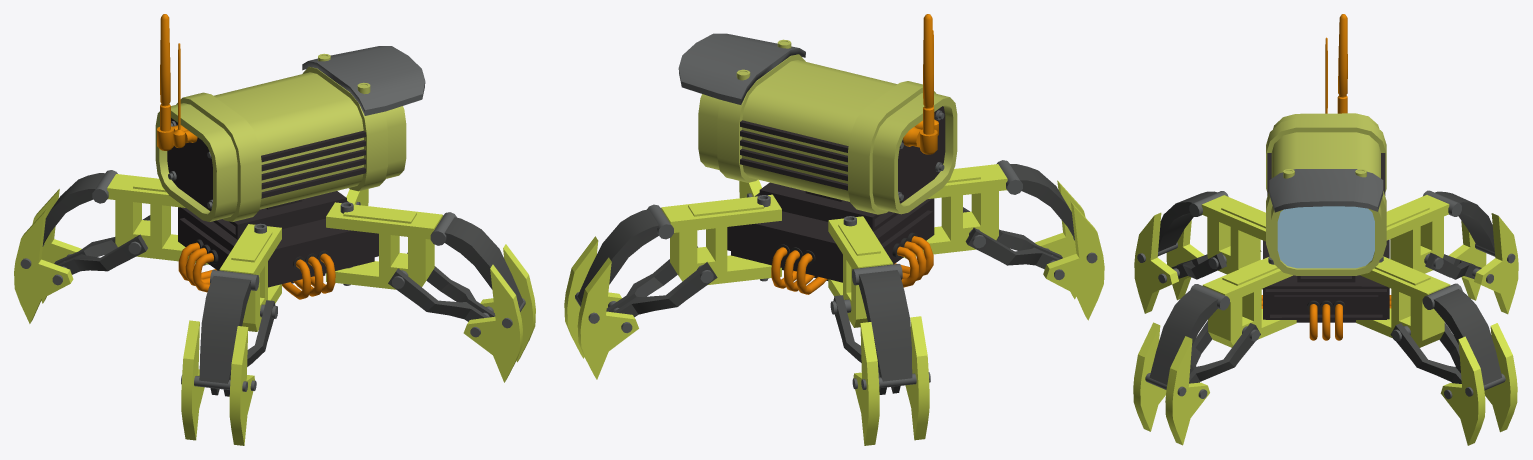
Rendered from SPWN_CAM.fbx.
3 renders of one model, left to right at view 1: azimuth 30°, elevation 25°; view 2: azimuth 150°, elevation 25°; view 3: azimuth 270°, elevation 25°, orthographic. The views are drawn at different scales.
Visible parts, largest first — view 1: Head, Body, FR_Upper, FR_MIDDLE, RR_MIDDLE, FR_LOWER, RL_UPPER.001, RR_LOWER, RL_LOWER, RL_MIDDLE, RR_UPPER; view 2: Head, Body, FL_UPPER, RL_MIDDLE, FL_MIDDLE, FL_LOWER, RR_UPPER, RL_LOWER, RR_LOWER, RR_MIDDLE, RL_UPPER.001; view 3: Head, Body, FL_MIDDLE, FR_MIDDLE, FR_LOWER, FL_LOWER, FR_Upper, FL_UPPER, RR_UPPER, RL_UPPER.001, RL_LOWER, RR_LOWER (+2 smaller).
Boxes of the visible parts, left/top/right/bottom form: Head: left=155, top=14, right=425, bottom=221; Body: left=178, top=191, right=378, bottom=299; FR_Upper: left=326, top=202, right=442, bottom=289; FR_MIDDLE: left=388, top=212, right=523, bottom=321; RR_MIDDLE: left=199, top=270, right=277, bottom=396; FR_LOWER: left=463, top=244, right=535, bottom=382; RL_UPPER.001: left=107, top=174, right=209, bottom=264; RR_LOWER: left=181, top=320, right=256, bottom=445; RL_LOWER: left=14, top=189, right=81, bottom=323; RL_MIDDLE: left=43, top=170, right=150, bottom=274; RR_UPPER: left=219, top=224, right=281, bottom=331; Head: left=678, top=14, right=957, bottom=214; Body: left=727, top=182, right=934, bottom=294; FL_UPPER: left=661, top=194, right=781, bottom=284; RL_MIDDLE: left=830, top=264, right=912, bottom=394; FL_MIDDLE: left=577, top=204, right=717, bottom=317; FL_LOWER: left=564, top=236, right=638, bottom=379; RR_UPPER: left=903, top=164, right=1007, bottom=257; RL_LOWER: left=852, top=316, right=930, bottom=445; RR_LOWER: left=1035, top=180, right=1104, bottom=320; RR_MIDDLE: left=963, top=160, right=1074, bottom=269; RL_UPPER.001: left=828, top=216, right=893, bottom=327; Head: left=1266, top=14, right=1386, bottom=275; Body: left=1261, top=239, right=1391, bottom=340; FL_MIDDLE: left=1390, top=283, right=1502, bottom=385; FR_MIDDLE: left=1149, top=284, right=1260, bottom=384; FR_LOWER: left=1133, top=322, right=1209, bottom=445; FL_LOWER: left=1440, top=323, right=1517, bottom=445; FR_Upper: left=1202, top=257, right=1296, bottom=347; FL_UPPER: left=1356, top=256, right=1450, bottom=347; RR_UPPER: left=1201, top=195, right=1265, bottom=289; RL_UPPER.001: left=1386, top=195, right=1449, bottom=288; RL_LOWER: left=1448, top=213, right=1518, bottom=314; RR_LOWER: left=1134, top=212, right=1204, bottom=313.
Size of the model in its own units: 308 by 286 by 319.
